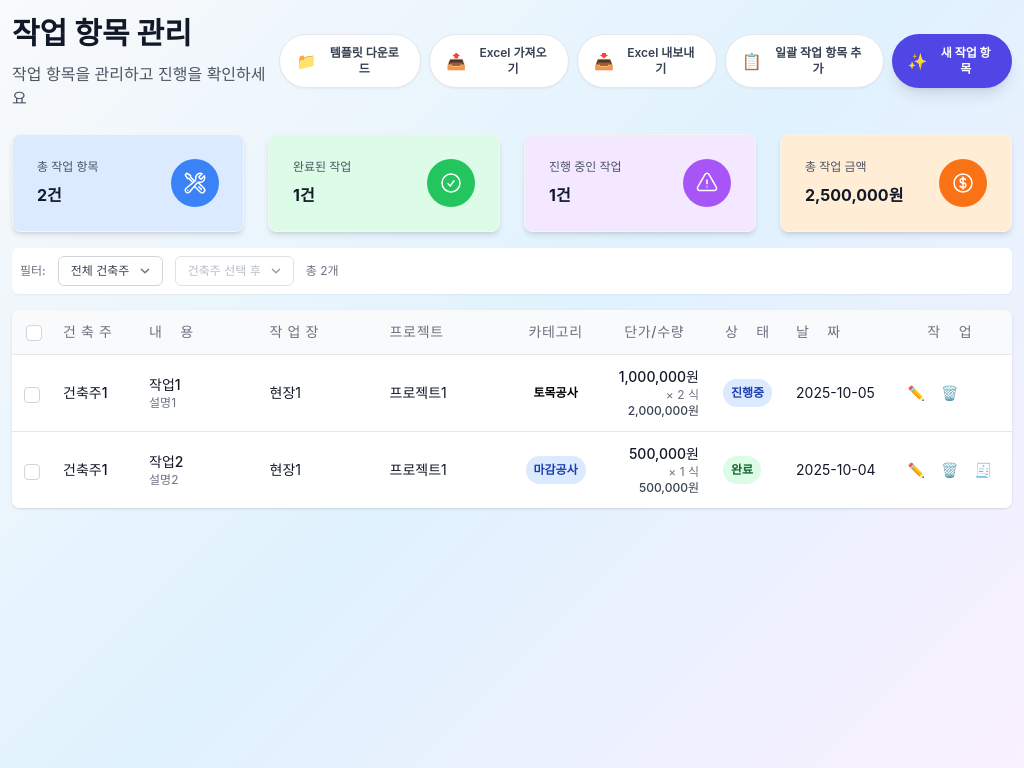
it: WorkItems Component › 일괄 작업 항목 추가 › 일괄 작업 항목 추가 버튼 클릭 시 모달이 열림
The width and height of the screenshot is (1024, 768).
What coordinates should you click on to do the following:
click the text "일괄 작업 항목 추가"
I would click on:
 (818, 61)
Its box is [770,45,866,77].
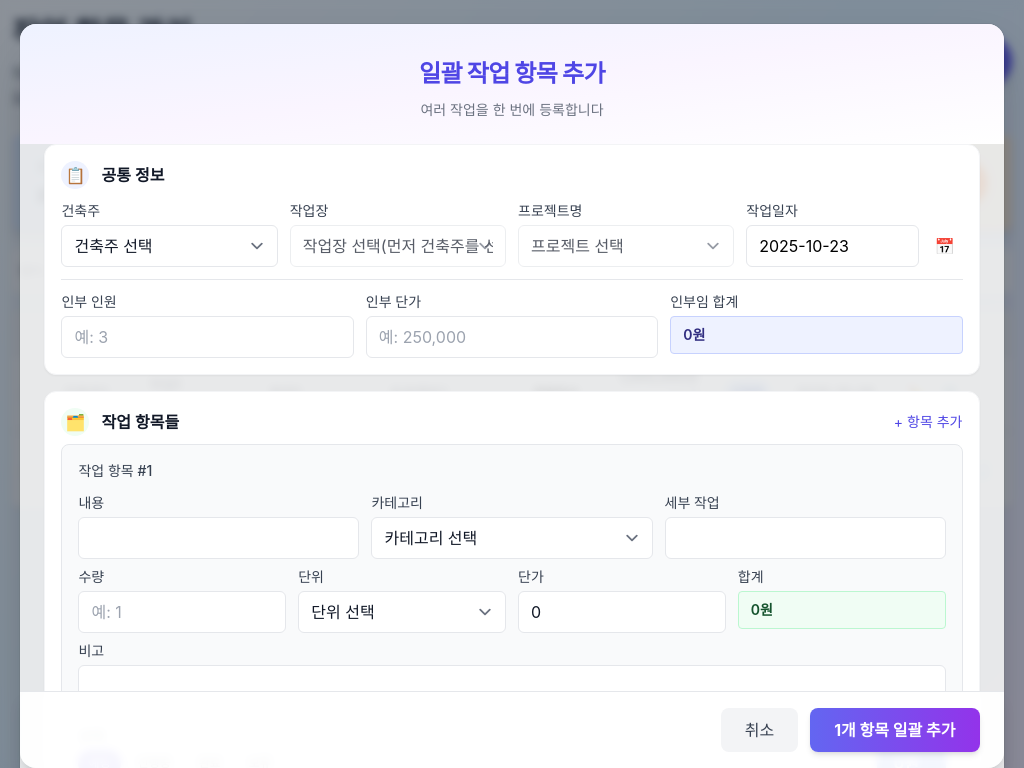
Expected: the element with class "fixed" is shown
